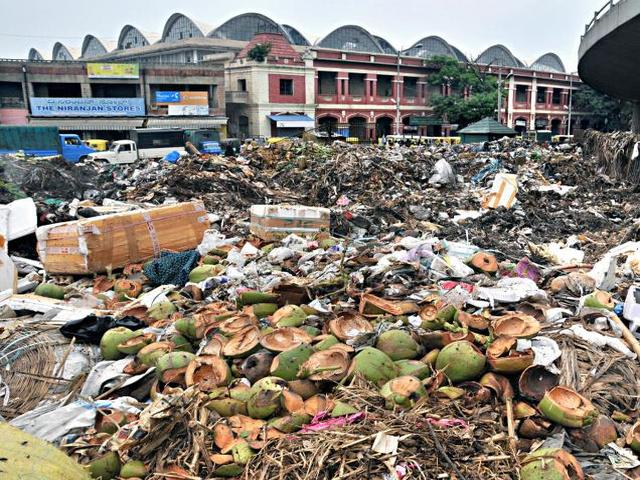garbage: (48, 167, 626, 480)
